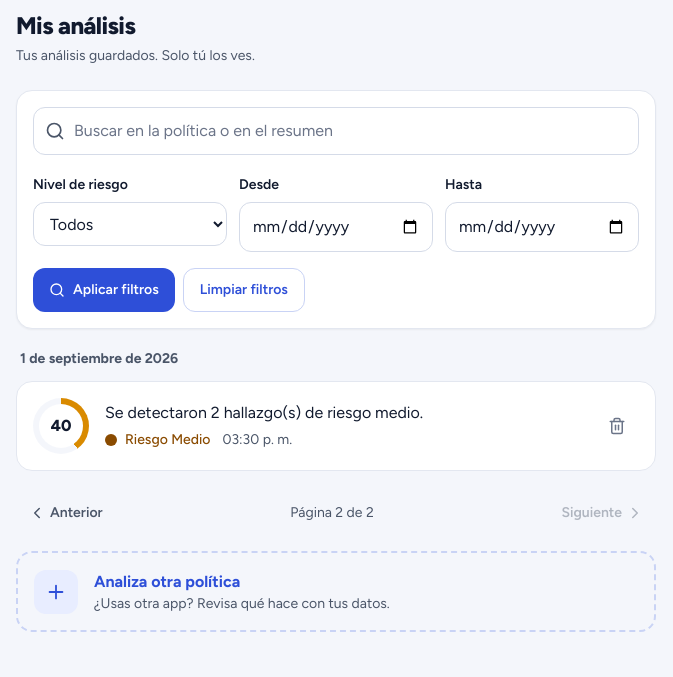
Test case: Historial › búsqueda y filtros › aplica texto, nivel y fechas y reinicia a la primera página
Expected: the text "Página 2 de 2" is shown, [290,503,374,523]
Type "tiktok" into the search field labelled "Buscar" at (336, 131), box [33,107,639,155]
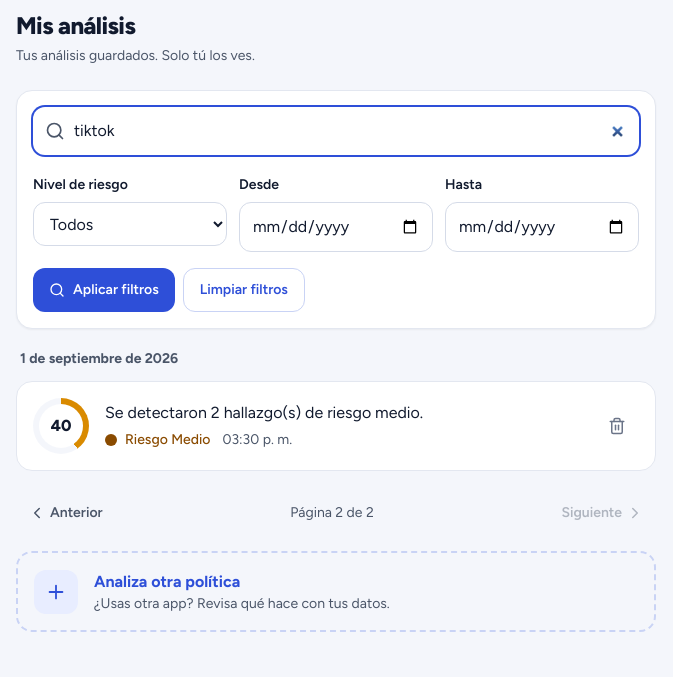
Select "Alto" in the dropdown labelled "Nivel de riesgo" at (130, 224), box [33,202,227,246]
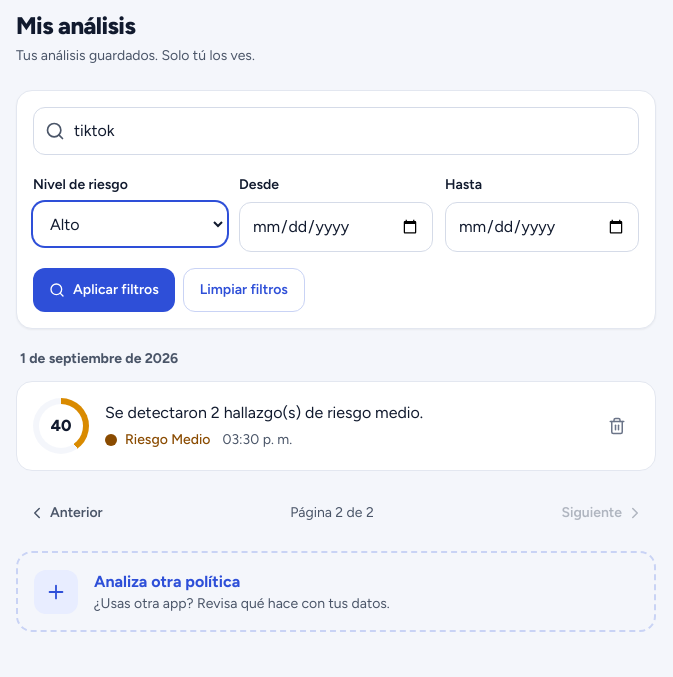
Type "2026-09-01" into the date field labelled "Desde" at (336, 227), box [239,202,433,252]
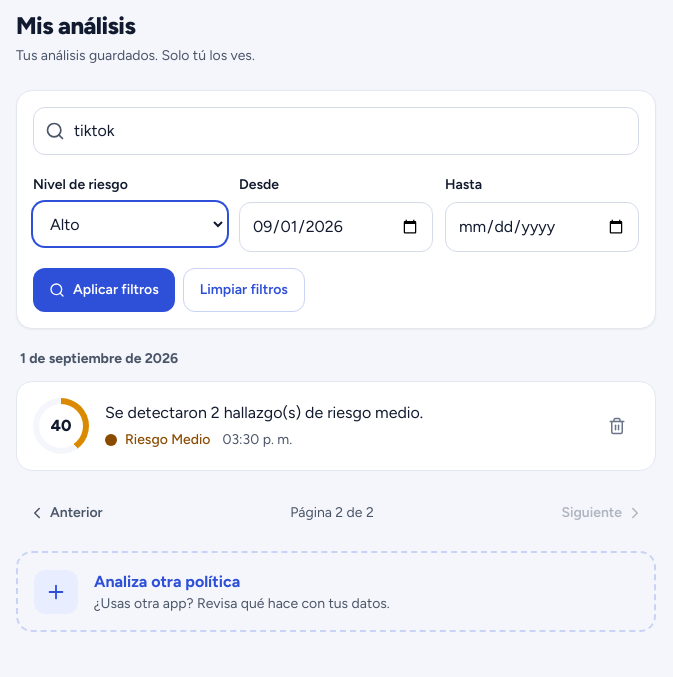
Type "2026-09-30" into the date field labelled "Hasta" at (542, 227), box [445,202,639,252]
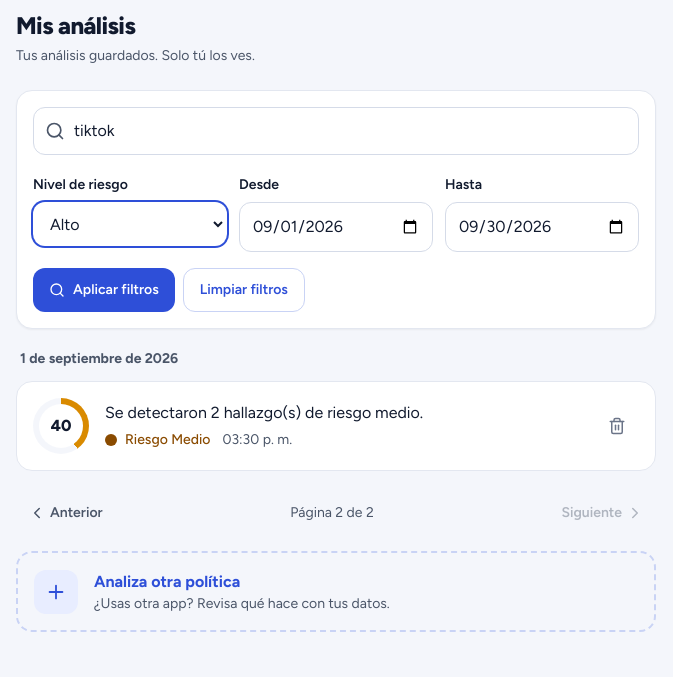
Click the button "Aplicar filtros" at (104, 290), box [33,268,175,312]
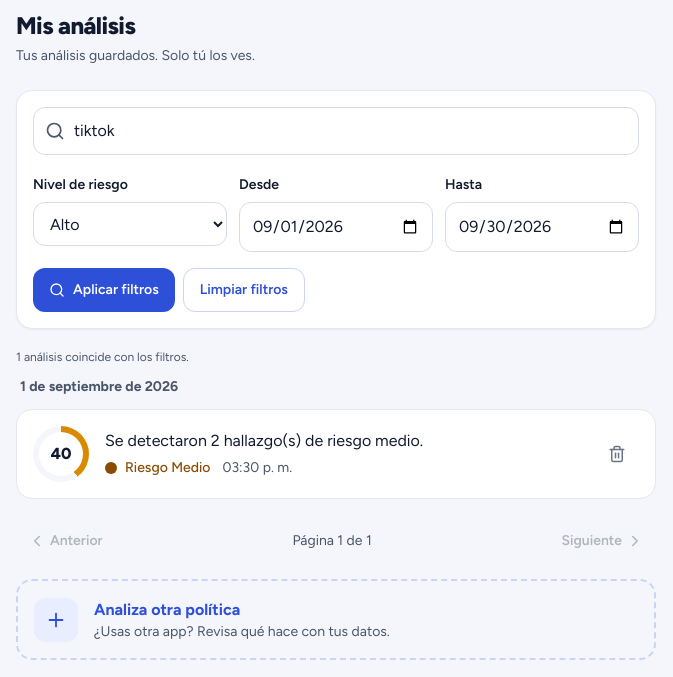
Expected: the text "1 análisis coincide con los filtros." is shown, [16,350,189,364]
